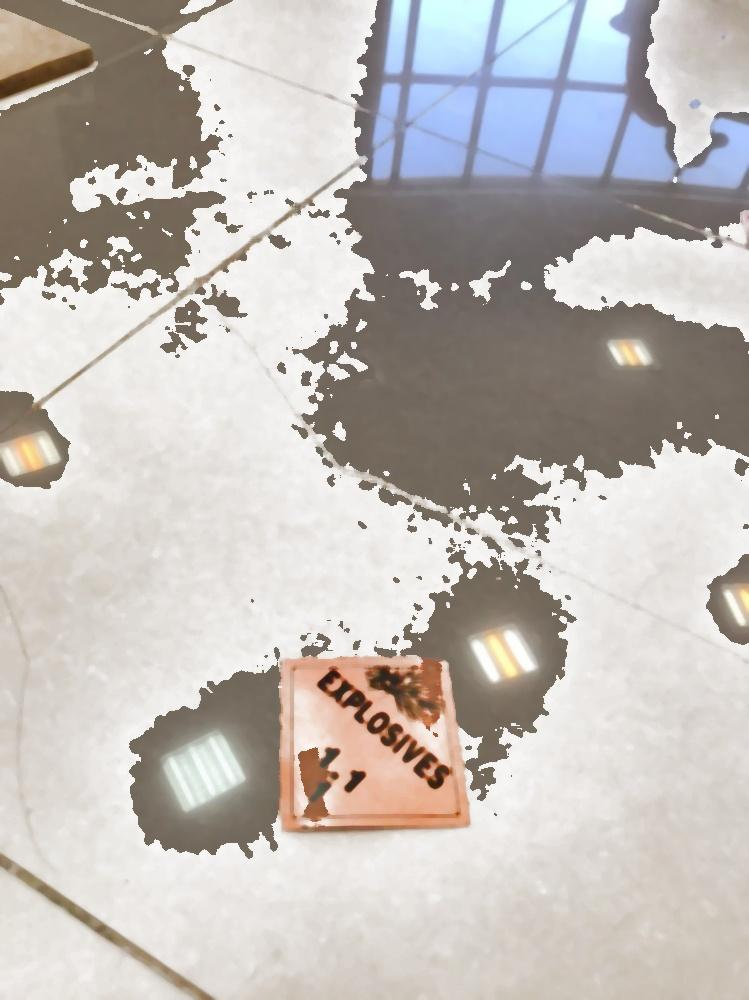explosive: (282, 658, 475, 831)
